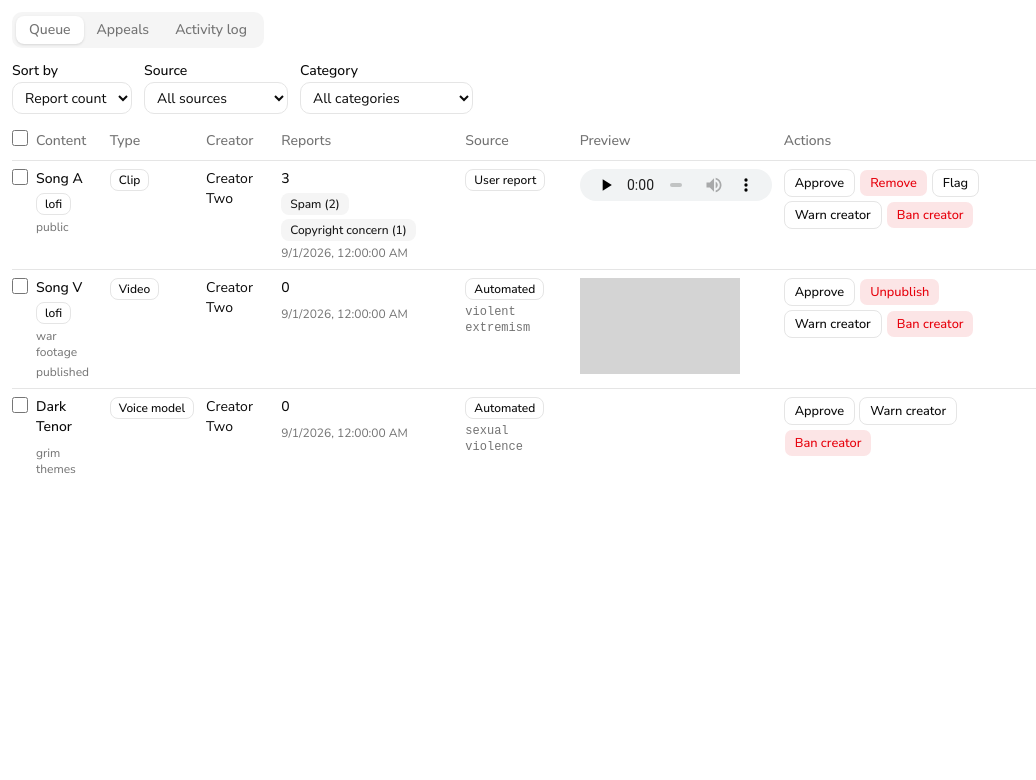
Test case: ModerationDashboard › bulk-approves a mixed selection across endpoints (#539)
The width and height of the screenshot is (1036, 780).
Click the checkbox named "Select all".
click(20, 138)  # box [12,130,28,146]
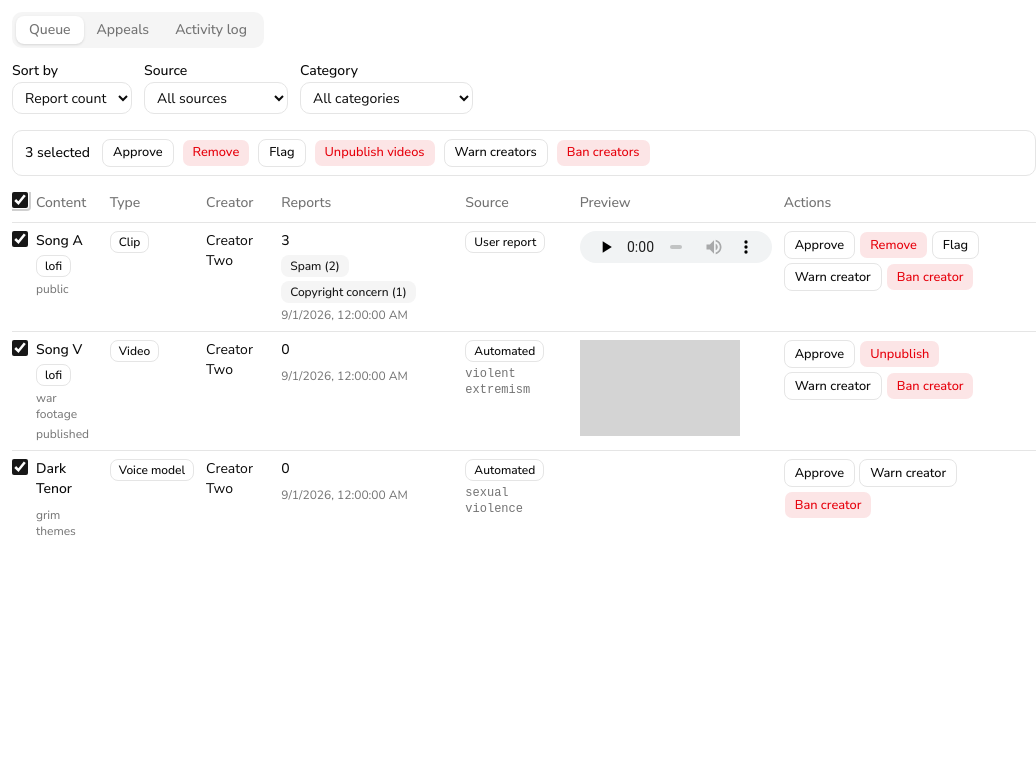
Expected: the button "Unpublish videos" is shown, [314,139,436,167]
Click the button "Approve" next to "selected".
click(138, 153)  # box [102,139,174,167]
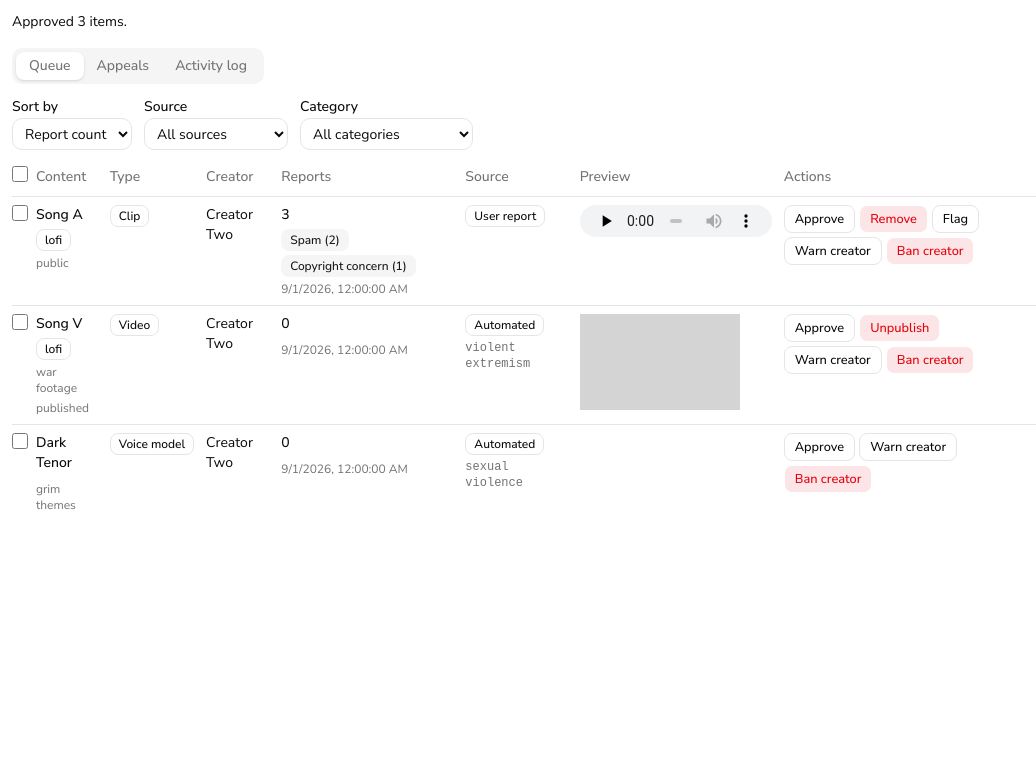
Expected: the message reads "Approved 3 items.", [12,12,127,31]
